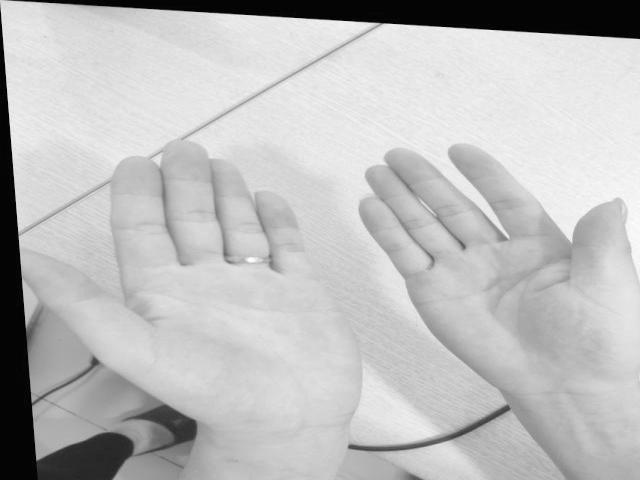not-gloved: (14, 140, 364, 412), (354, 150, 640, 396)
